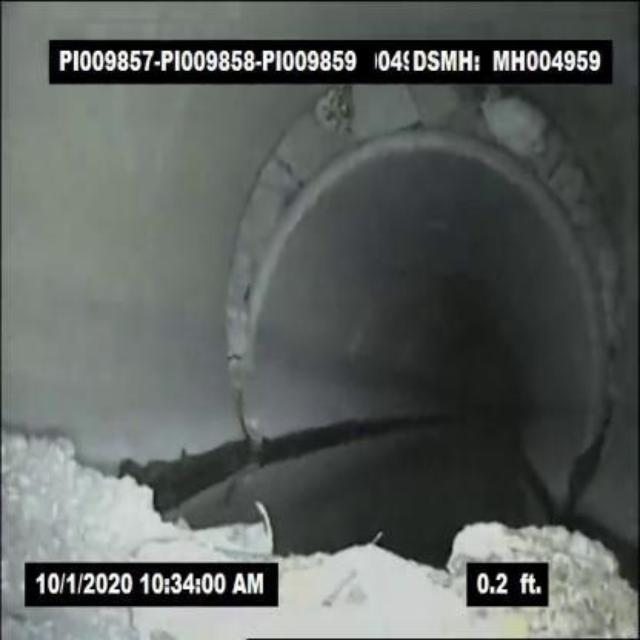Debris: (9, 417, 194, 558), (442, 515, 635, 635)
Joint offset: (252, 88, 572, 198), (545, 205, 635, 383), (209, 222, 280, 382)
